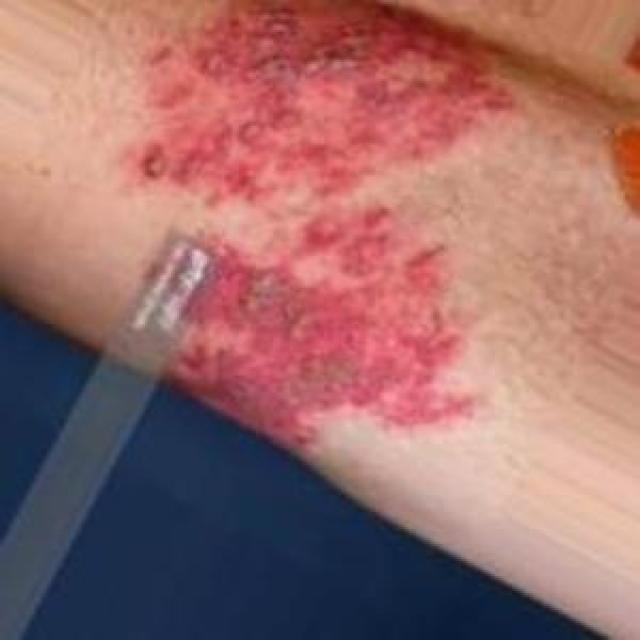Shingles: (144, 204, 480, 453), (118, 0, 512, 200)
